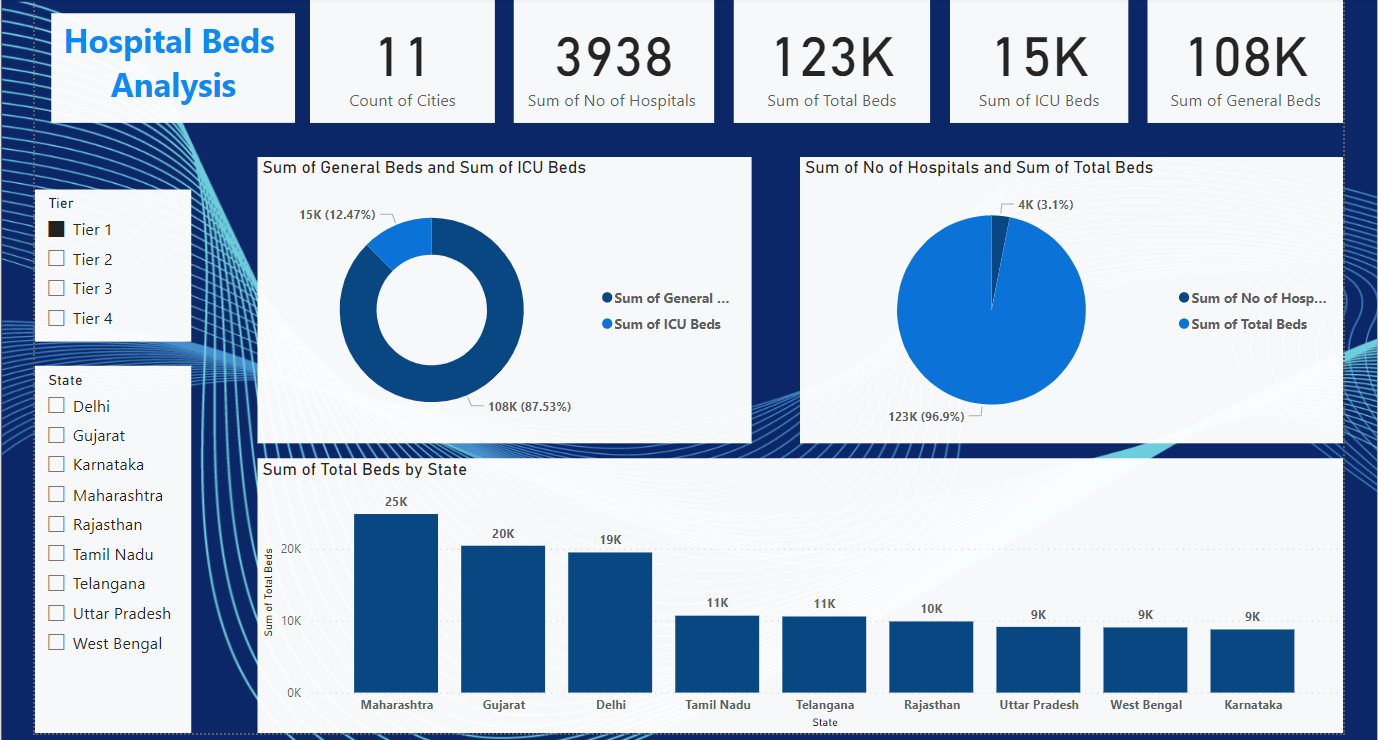

This screenshot's page, from the dashboard's own definition file:
{"tool":"powerbi","page":{"name":"Page 1","canvas":[1280,720],"ordinal":0},"visuals":[{"type":"card","fields":{"Values":["CountNonNull(Location.Cities)"]},"box":[268.7,0,181.1,123.5],"z":0},{"type":"card","fields":{"Values":["Sum(Hospital_beds.ICU Beds)"]},"box":[894.8,0,174.3,123.5],"z":1000},{"type":"card","fields":{"Values":["Sum(Hospital_beds.General Beds)"]},"box":[1087.9,0,192.1,123.5],"z":2000},{"type":"card","fields":{"Values":["Sum(Hospital_beds.No of Hospitals )"]},"box":[468.7,0,196.2,123.5],"z":3000},{"type":"card","fields":{"Values":["Sum(Hospital_beds.Total Beds)"]},"box":[683.8,0,192.1,123.5],"z":4000},{"type":"textbox","box":[16.5,16.5,238.8,107],"z":5000},{"type":"slicer","fields":{"Values":["Hospital_beds.Tier"]},"box":[0,188.3,152.8,149.1],"z":6000},{"type":"donutChart","fields":{"Y":["Sum(Hospital_beds.General Beds)","Sum(Hospital_beds.ICU Beds)"]},"box":[217.6,156.5,482.9,279.9],"z":7000},{"type":"pieChart","fields":{"Y":["Sum(Hospital_beds.No of Hospitals )","Sum(Hospital_beds.Total Beds)"]},"box":[748.1,156.5,531.7,279.9],"z":8000},{"type":"clusteredColumnChart","fields":{"Y":["Sum(Hospital_beds.Total Beds)"],"Category":["Location.State"]},"box":[217.6,451.1,1062.3,268.9],"z":9000},{"type":"slicer","fields":{"Values":["Location.State"]},"box":[0,360.6,152.8,359.4],"z":10000}]}

Visuals, with their boxes in screenshot pixels (x1, y1, x2, y2):
card - CountNonNull(Location.Cities): crop(312, 0, 495, 121)
card - Sum(Hospital_beds.ICU Beds): crop(945, 0, 1122, 121)
card - Sum(Hospital_beds.General Beds): crop(1141, 0, 1336, 121)
card - Sum(Hospital_beds.No of Hospitals ): crop(514, 0, 713, 121)
card - Sum(Hospital_beds.Total Beds): crop(732, 0, 926, 121)
textbox: crop(56, 13, 298, 121)
slicer - Hospital_beds.Tier: crop(39, 187, 194, 338)
donutChart - Sum(Hospital_beds.General Beds) x Sum(Hospital_beds.ICU Beds): crop(260, 155, 749, 438)
pieChart - Sum(Hospital_beds.No of Hospitals ) x Sum(Hospital_beds.Total Beds): crop(797, 155, 1335, 438)
clusteredColumnChart - Sum(Hospital_beds.Total Beds) x Location.State: crop(260, 453, 1335, 725)
slicer - Location.State: crop(39, 362, 194, 725)
